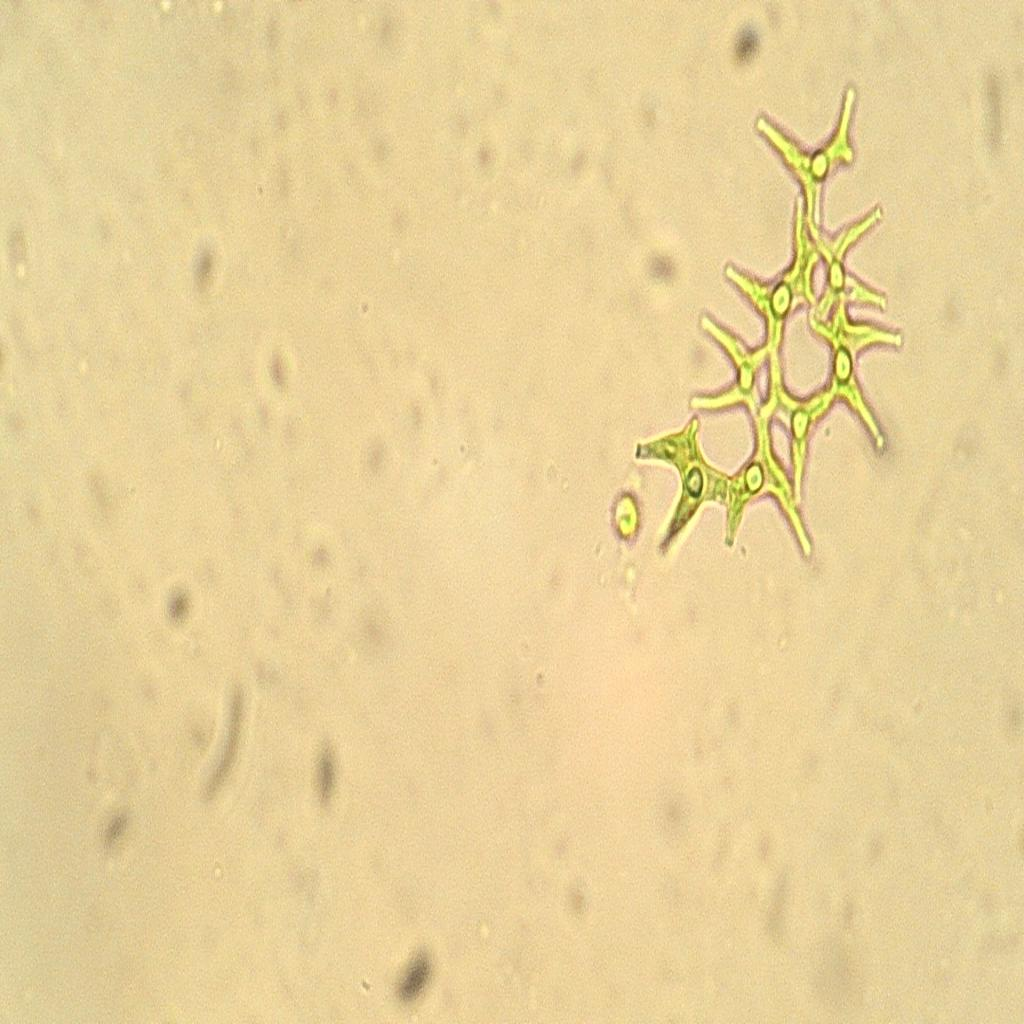Pediastrum_CFI: (618, 52, 914, 606)
